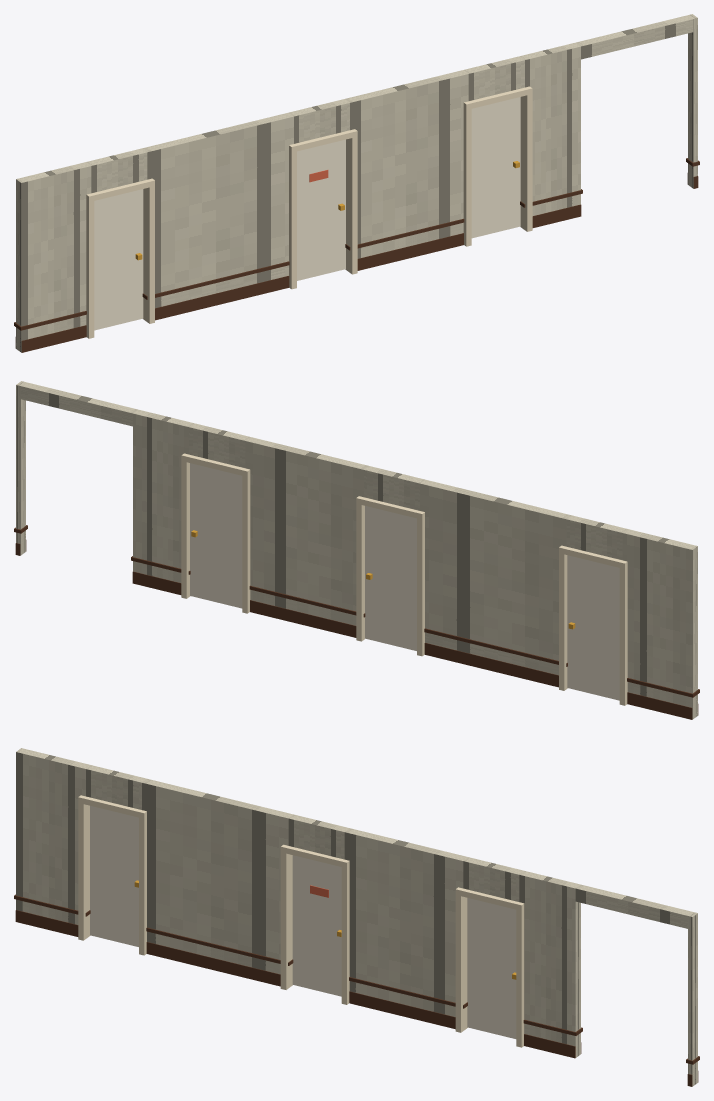
Rendered from hall_back.glb.
3 renders of one model, top to bottom at view 1: azimuth 30°, elevation 25°; view 2: azimuth 150°, elevation 25°; view 3: azimuth 330°, elevation 25°, orthographic.
Visible parts, largest first — view 1: Box3, Box5, Box1, Box7, Box31, Box25, Box18, Box14, Box11, Box13, Box12, Box23 (+15 smaller); view 2: Box3, Box5, Box1, Box7, Box25, Box31, Box18, Box14, Box11, Box13, Box12, Box4 (+14 smaller); view 3: Box3, Box5, Box1, Box7, Box25, Box31, Box18, Box14, Box12, Box13, Box11, Box15 (+11 smaller).
Boxes of the visible parts, x1,y1,x2,y2 form: Box3: (142,112,293,308); Box5: (345,70,468,258); Box1: (16,162,91,352); Box7: (520,42,580,215); Box31: (94,189,143,330); Box25: (471,97,520,238); Box18: (297,139,345,280); Box14: (576,15,693,59); Box11: (86,148,147,193); Box13: (464,56,524,100); Box12: (289,99,349,143); Box23: (520,86,532,231); Box3: (420,479,571,675); Box5: (245,437,368,625); Box1: (622,529,697,719); Box7: (133,409,193,582); Box25: (190,463,242,608); Box31: (567,555,619,700); Box18: (365,506,416,650); Box14: (20,382,137,426); Box11: (566,515,627,560); Box13: (189,423,249,467); Box12: (364,466,424,510); Box4: (424,643,558,687); Box3: (142,779,293,974); Box5: (344,828,468,1016); Box1: (16,748,90,924); Box7: (519,871,580,1057); Box25: (467,898,516,1038); Box31: (90,805,138,946); Box18: (292,855,341,996); Box14: (575,884,692,928); Box12: (288,814,349,859); Box13: (463,857,524,901); Box11: (86,765,146,809); Box15: (280,844,292,989).
Size of the model in its own units: 10.89 by 2.6 by 0.3.
6 materials, 1 textured.
